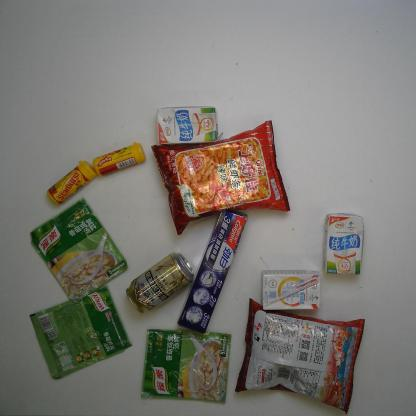Alcohol: (126, 249, 194, 315)
Candy: (45, 162, 97, 206), (91, 143, 148, 177)
Milk: (153, 105, 221, 147), (323, 208, 363, 278), (259, 268, 323, 310)
Personal Hygiene: (177, 207, 247, 334)
Puffed Food: (148, 119, 290, 237), (234, 296, 368, 413)
Seasoner: (27, 197, 129, 303), (26, 283, 132, 381), (133, 326, 233, 403)
